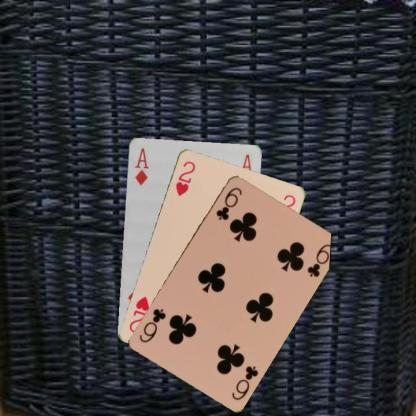2h: (173, 158, 196, 197)
6c: (229, 362, 259, 402), (213, 184, 243, 221)
Ad: (132, 145, 150, 187)
